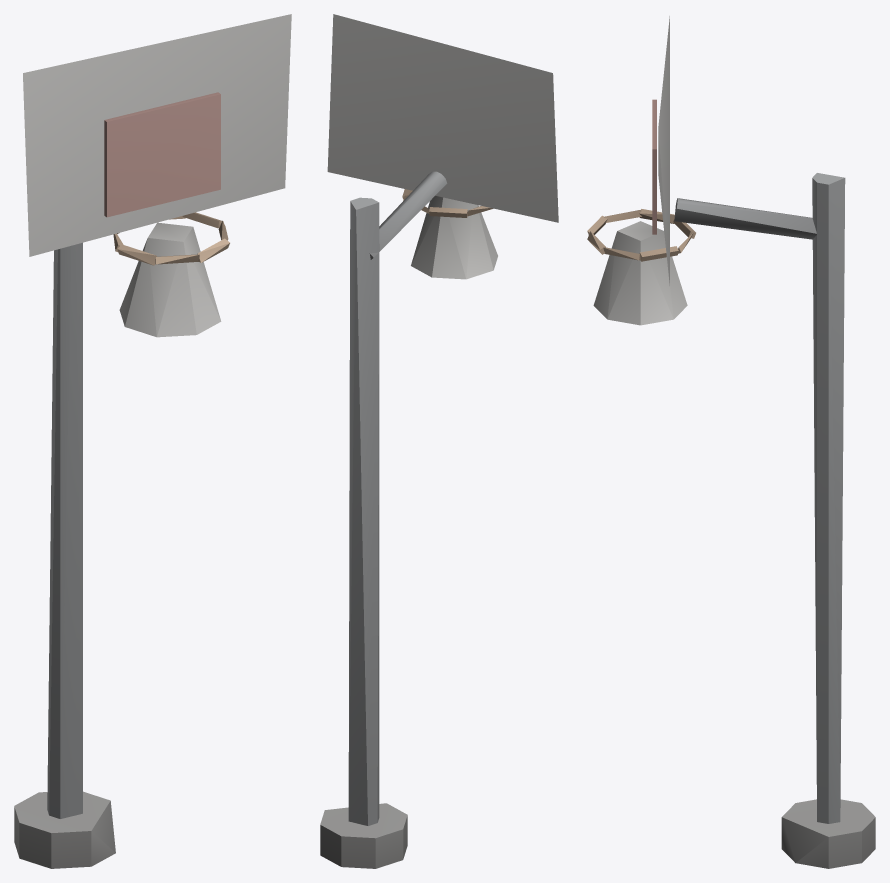
Rendered from hoop.lod1.glb.
3 renders of one model, left to right at view 1: azimuth 30°, elevation 25°; view 2: azimuth 150°, elevation 25°; view 3: azimuth 270°, elevation 25°, orthographic. The views are drawn at different scales.
Size of the model in its own units: 1.15 by 3.65 by 1.23.
